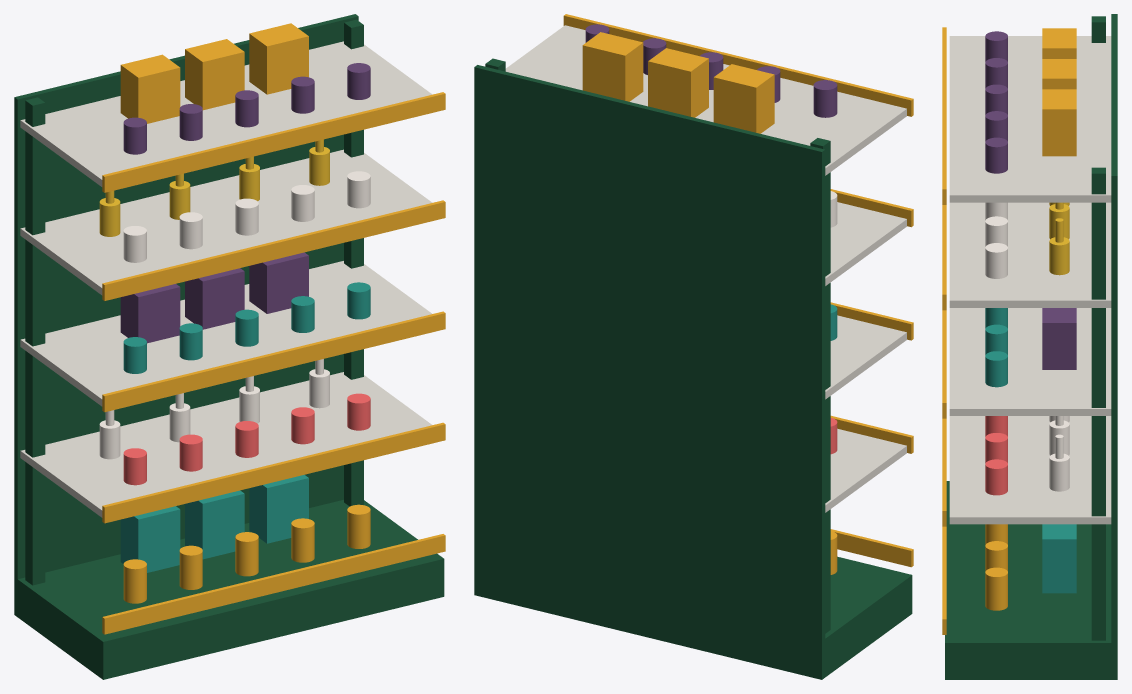
File: bodega_shelf.glb
3 renders of one model, left to right at view 1: azimuth 30°, elevation 25°; view 2: azimuth 150°, elevation 25°; view 3: azimuth 270°, elevation 25°, orthographic. The views are drawn at different scales.
Visible parts, largest first — view 1: back_panel, base_deck, shelf_0, shelf_2, shelf_1, shelf_3, upright.001, price_rail_1, price_rail_4, price_rail_0, price_rail_2, price_rail_3 (+43 smaller); view 2: back_panel, base_deck, shelf_3, box_row_4.001, box_row_4.003, box_row_4.002, shelf_0, shelf_1, shelf_2, price_rail_4, upright.001, price_rail_0 (+4 smaller); view 3: base_deck, shelf_3, shelf_0, shelf_2, shelf_1, upright.002, back_panel, box_row_0.003, box_row_4.003, box_row_2.003, box_row_4.001, box_row_4.002 (+27 smaller).
Boxes of the visible parts, bbox=[...] form: back_panel: bbox=[14, 14, 358, 579]; base_deck: bbox=[14, 500, 444, 679]; shelf_0: bbox=[20, 372, 432, 517]; shelf_2: bbox=[20, 149, 432, 295]; shelf_1: bbox=[20, 261, 431, 406]; shelf_3: bbox=[20, 41, 432, 186]; upright.001: bbox=[25, 97, 45, 585]; price_rail_1: bbox=[102, 422, 445, 523]; price_rail_4: bbox=[102, 92, 445, 192]; price_rail_0: bbox=[102, 534, 445, 634]; price_rail_2: bbox=[102, 311, 445, 412]; price_rail_3: bbox=[102, 200, 445, 300]; back_panel: bbox=[474, 65, 825, 640]; base_deck: bbox=[474, 556, 912, 679]; shelf_3: bbox=[505, 25, 906, 175]; box_row_4.001: bbox=[713, 64, 774, 133]; box_row_4.003: bbox=[582, 32, 643, 101]; box_row_4.002: bbox=[648, 48, 708, 117]; shelf_0: bbox=[825, 428, 906, 512]; shelf_1: bbox=[825, 315, 906, 399]; shelf_2: bbox=[825, 202, 906, 285]; price_rail_4: bbox=[563, 14, 913, 116]; upright.001: bbox=[810, 138, 830, 633]; price_rail_0: bbox=[830, 529, 913, 567]; base_deck: bbox=[945, 481, 1117, 679]; shelf_3: bbox=[949, 36, 1111, 202]; shelf_0: bbox=[949, 416, 1111, 524]; shelf_2: bbox=[949, 202, 1111, 307]; shelf_1: bbox=[949, 308, 1111, 415]; upright.002: bbox=[1091, 167, 1105, 640]; back_panel: bbox=[1111, 14, 1117, 642]; box_row_0.003: bbox=[1042, 524, 1076, 593]; box_row_4.003: bbox=[1042, 89, 1076, 156]; box_row_2.003: bbox=[1042, 308, 1076, 369]; box_row_4.001: bbox=[1042, 28, 1076, 58]; box_row_4.002: bbox=[1042, 59, 1076, 89].
Size of the model in its own units: 1.22 by 1.86 by 0.558.
